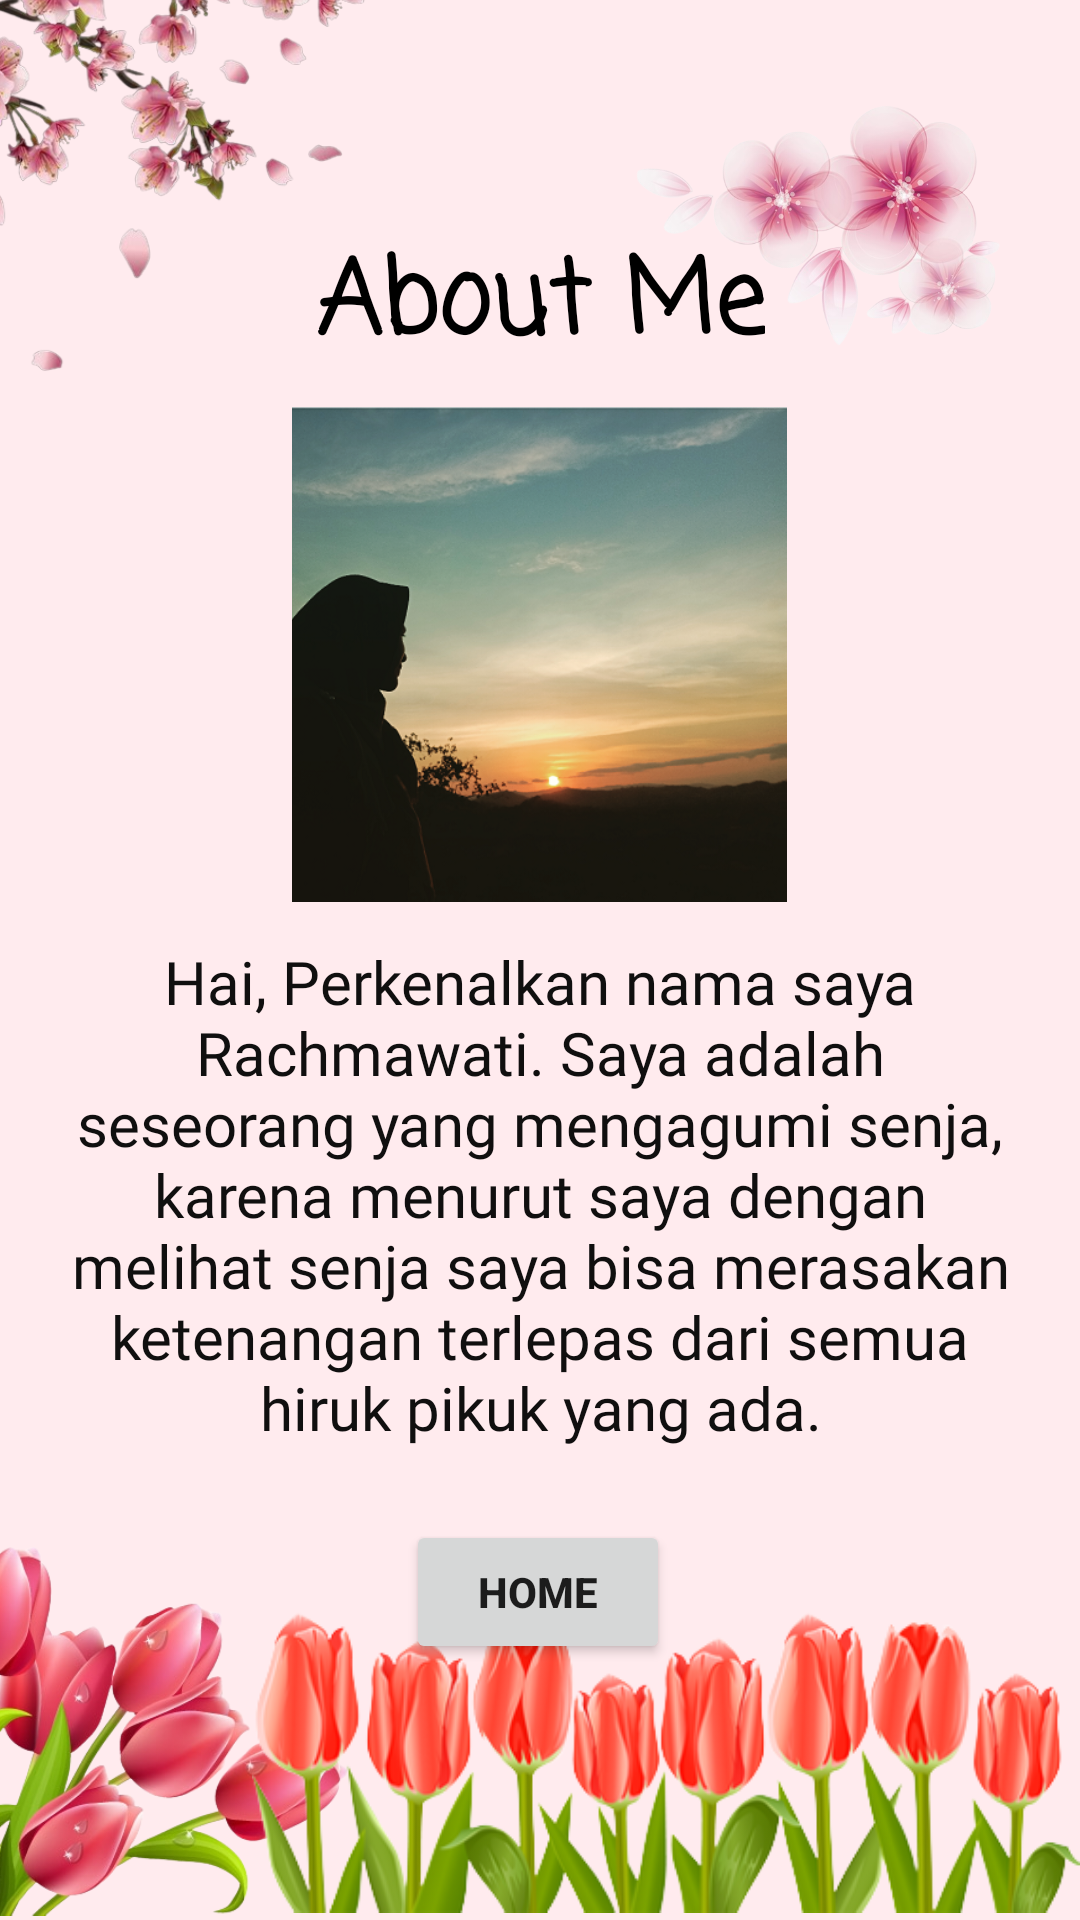

Screen size 1080 × 1920. Icon name, then its center in pixels as point (x, y):
pinksakura: point (807, 225)
